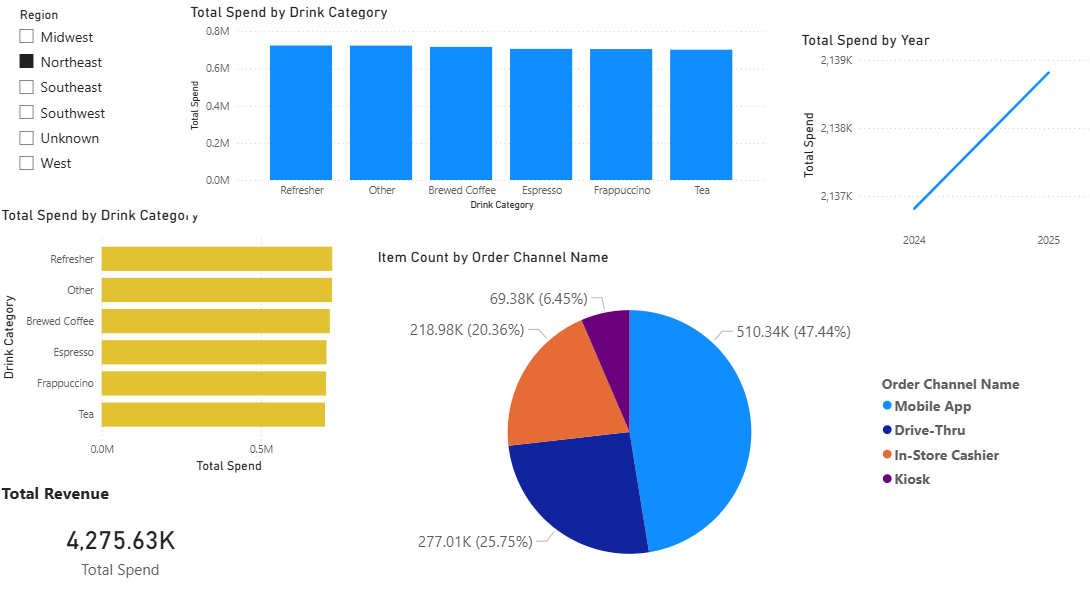

What the dashboard file says about the page in this screenshot:
{"tool":"powerbi","page":{"name":"Report2_CascadingSlicers","canvas":[1280,720],"ordinal":1},"visuals":[{"type":"slicer","fields":{"Values":["Dim Store.Region"]},"box":[15.7,0,185.7,222.9],"z":0},{"type":"clusteredBarChart","fields":{"Category":["Dim Drink.Drink Category"],"Y":["Fact Sales.Total Spend"]},"box":[1.4,230,430,315.7],"z":1000},{"type":"lineChart","fields":{"Category":["Dim Date.DateHierarchy.Year","Dim Date.DateHierarchy.Quarter","Dim Date.DateHierarchy.Month","Dim Date.DateHierarchy.Day"],"Y":["Fact Sales.Total Spend"]},"box":[925.7,2.9,354.3,271.4],"z":2000},{"type":"card","fields":{"Values":["Fact Sales.Total Spend"]},"box":[0,545.7,401.4,174.3],"z":3000},{"type":"textbox","box":[0,545.7,164.3,50],"z":4000},{"type":"pieChart","fields":{"Category":["Dim Order.Order Channel Name"],"Y":["Fact Sales.Item Count"]},"box":[431.4,305.7,767.1,414.3],"z":5000},{"type":"columnChart","fields":{"Y":["Fact Sales.Total Spend"],"Category":["Dim Drink.Drink Category"]},"box":[201.4,0,668.6,242.9],"z":6000}]}

Visuals, with their boxes on the page's 1280x720 design canvas (x1, y1, x2, y2). These are canvas units, not pixel positions in the 1090x590 screenshot, which may show the page scaled, cropped or inside an application window:
slicer - Dim Store.Region: <bbox>16, 0, 201, 223</bbox>
clusteredBarChart - Dim Drink.Drink Category x Fact Sales.Total Spend: <bbox>1, 230, 431, 546</bbox>
lineChart - Dim Date.DateHierarchy.Year x Dim Date.DateHierarchy.Quarter: <bbox>926, 3, 1280, 274</bbox>
card - Fact Sales.Total Spend: <bbox>0, 546, 401, 720</bbox>
textbox: <bbox>0, 546, 164, 596</bbox>
pieChart - Dim Order.Order Channel Name x Fact Sales.Item Count: <bbox>431, 306, 1198, 720</bbox>
columnChart - Fact Sales.Total Spend x Dim Drink.Drink Category: <bbox>201, 0, 870, 243</bbox>
